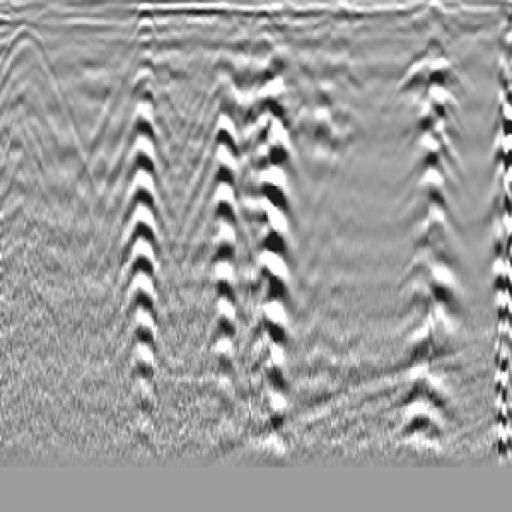metalic: (297, 52, 370, 229)
